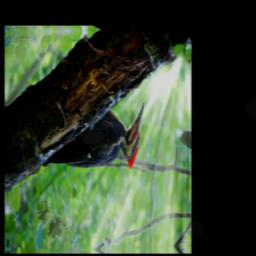Woodpecker: (40, 99, 146, 175)
